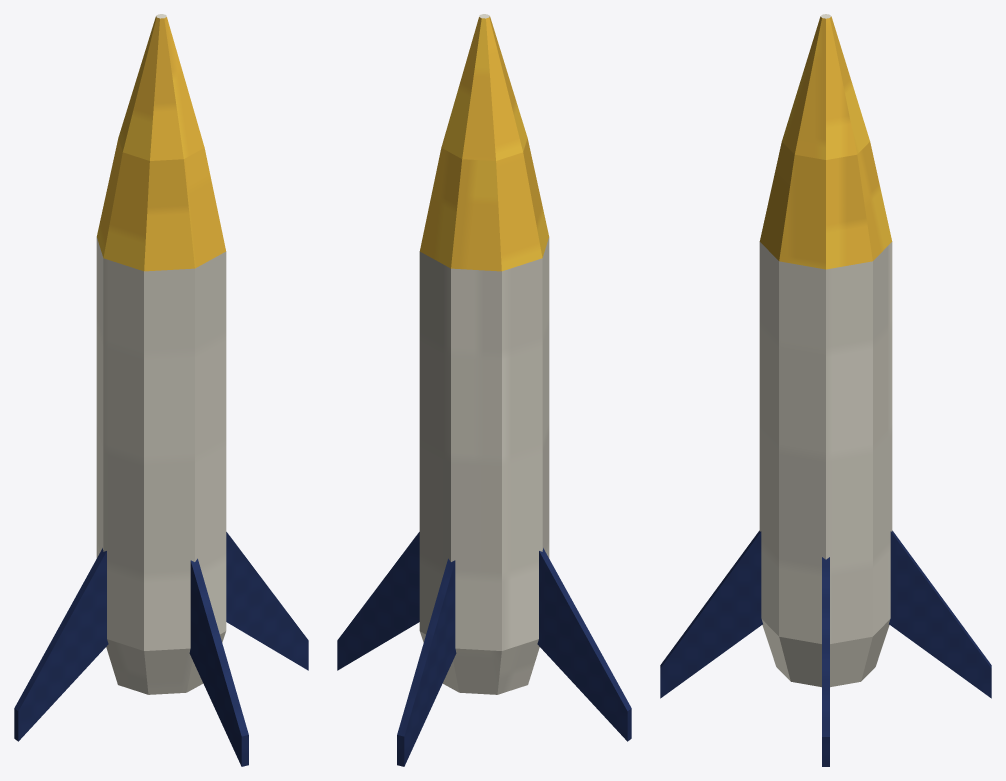
File: SM_Prop_Missile_HQ.glb
The picture shows the model from 3 angles, left to right: view 1: azimuth 30°, elevation 25°; view 2: azimuth 150°, elevation 25°; view 3: azimuth 270°, elevation 25°; orthographic projection.
Parts seen in each view (by area): view 1: SM_Prop_Missile_HQ; view 2: SM_Prop_Missile_HQ; view 3: SM_Prop_Missile_HQ.
Boxes of the visible parts, x1,y1,x2,y2 form: SM_Prop_Missile_HQ: (14,14,308,766); SM_Prop_Missile_HQ: (337,14,631,766); SM_Prop_Missile_HQ: (660,14,991,766).
Size of the model in its own units: 0.6 by 1.36 by 0.6.
1 material, 1 textured.
